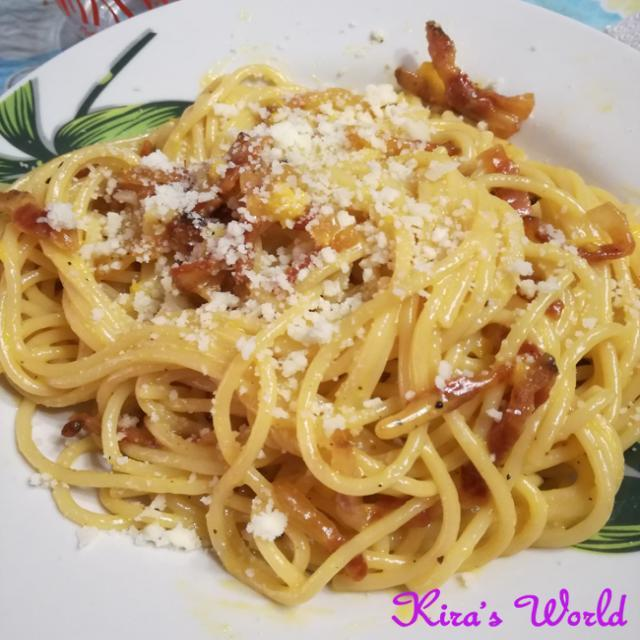Pasta with carbonara sauce: (26, 63, 632, 583)
